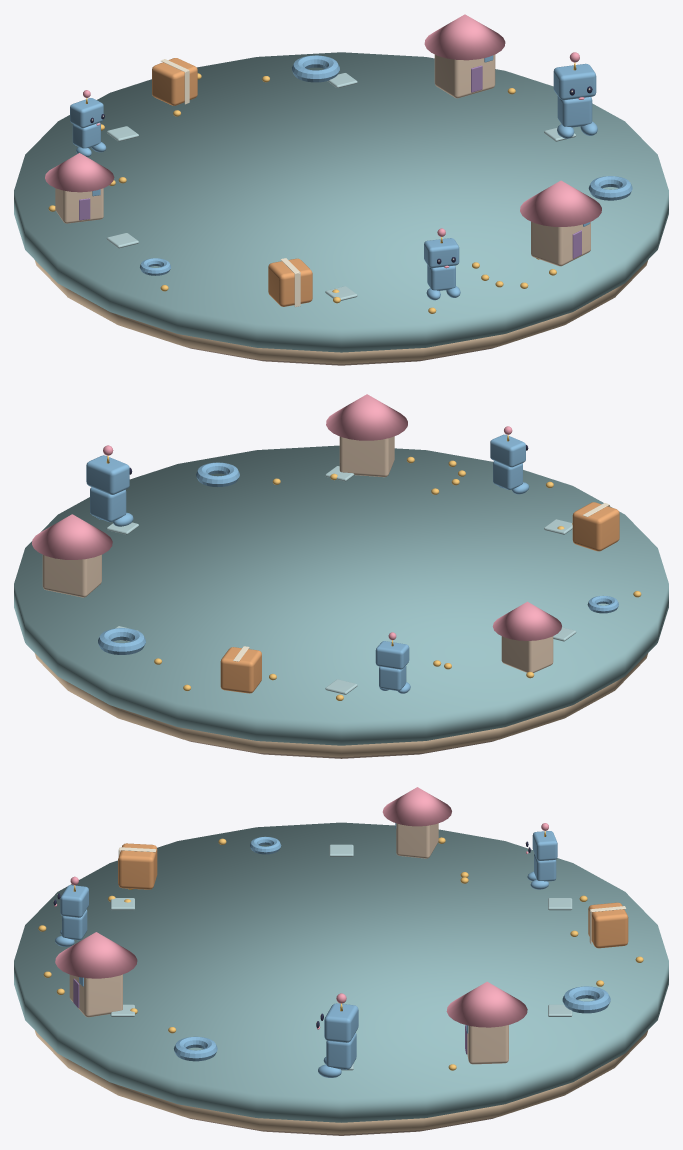
File: world.glb
3 views of the same model, one above another, from view 1: azimuth 30°, elevation 25°; view 2: azimuth 150°, elevation 25°; view 3: azimuth 270°, elevation 25° (orthographic).
Visible parts, largest first — view 1: Cone, Cone.001, house.003, house.001, house.002, robot.001, robot.003, parcel.002, parcel.001, robot.002, gear.001, gear.003 (+1 smaller); view 2: Cone, Cone.001, house.001, house.003, house.002, robot.001, parcel.002, robot.003, parcel.001, robot.002, gear.001, gear.003 (+1 smaller); view 3: Cone, Cone.001, house.003, house.001, house.002, robot.001, parcel.002, parcel.001, robot.003, robot.002, gear.001, gear.003 (+1 smaller).
Part boxes in pixels (left/top/right/bottom): Cone: left=14, top=52, right=668, bottom=352; Cone.001: left=35, top=260, right=647, bottom=364; house.003: left=520, top=180, right=601, bottom=266; house.001: left=424, top=14, right=505, bottom=98; house.002: left=45, top=153, right=114, bottom=223; robot.001: left=553, top=52, right=597, bottom=138; robot.003: left=424, top=228, right=460, bottom=300; parcel.002: left=268, top=258, right=312, bottom=306; parcel.001: left=152, top=58, right=197, bottom=105; robot.002: left=70, top=90, right=106, bottom=157; gear.001: left=292, top=55, right=339, bottom=82; gear.003: left=588, top=176, right=632, bottom=200; Cone: left=14, top=445, right=668, bottom=745; Cone.001: left=34, top=653, right=648, bottom=757; house.001: left=32, top=514, right=112, bottom=597; house.003: left=326, top=394, right=407, bottom=477; house.002: left=492, top=601, right=561, bottom=672; robot.001: left=86, top=445, right=133, bottom=526; parcel.002: left=572, top=502, right=619, bottom=551; robot.003: left=490, top=426, right=529, bottom=494; parcel.001: left=220, top=646, right=261, bottom=693; robot.002: left=375, top=632, right=410, bottom=693; gear.001: left=98, top=628, right=145, bottom=654; gear.003: left=196, top=462, right=239, bottom=486; Cone: left=14, top=822, right=668, bottom=1122; Cone.001: left=34, top=1030, right=648, bottom=1134; house.003: left=55, top=932, right=137, bottom=1017; house.001: left=446, top=981, right=527, bottom=1064; house.002: left=382, top=787, right=451, bottom=858; robot.001: left=316, top=993, right=358, bottom=1077; parcel.002: left=118, top=843, right=157, bottom=889; parcel.001: left=588, top=902, right=628, bottom=948; robot.003: left=53, top=876, right=88, bottom=946; robot.002: left=525, top=823, right=557, bottom=889; gear.001: left=562, top=986, right=610, bottom=1013; gear.003: left=174, top=1036, right=217, bottom=1061.
Size of the model in its own units: 9.6 by 2.08 by 9.6.
